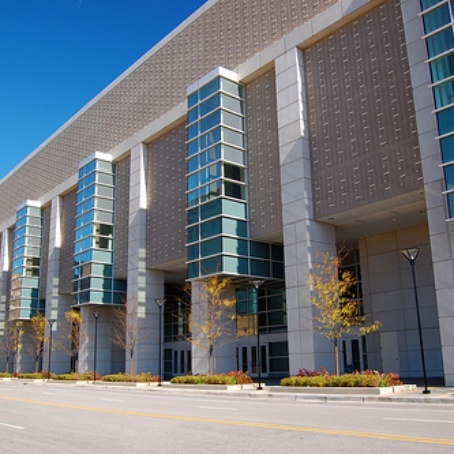building: (3, 1, 453, 369)
sky: (1, 1, 200, 158)
street: (1, 378, 454, 454)
